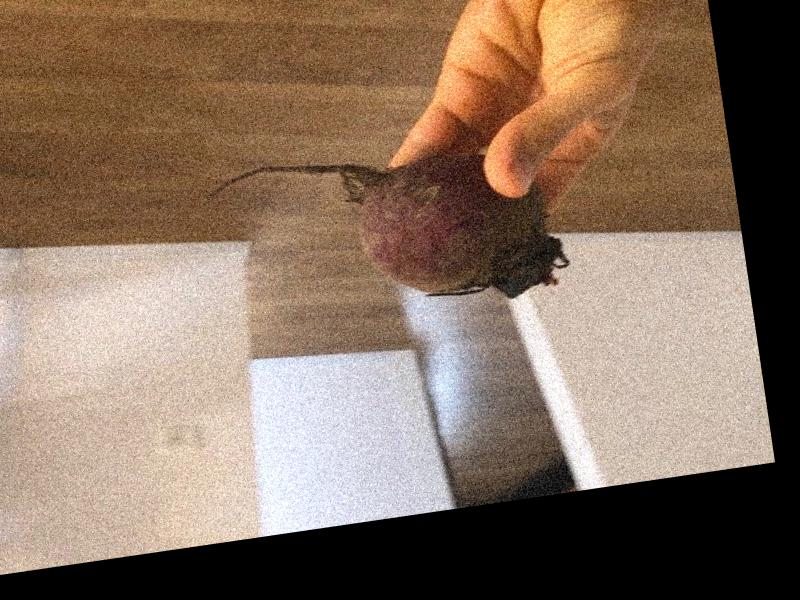Beet: (200, 127, 568, 338)
